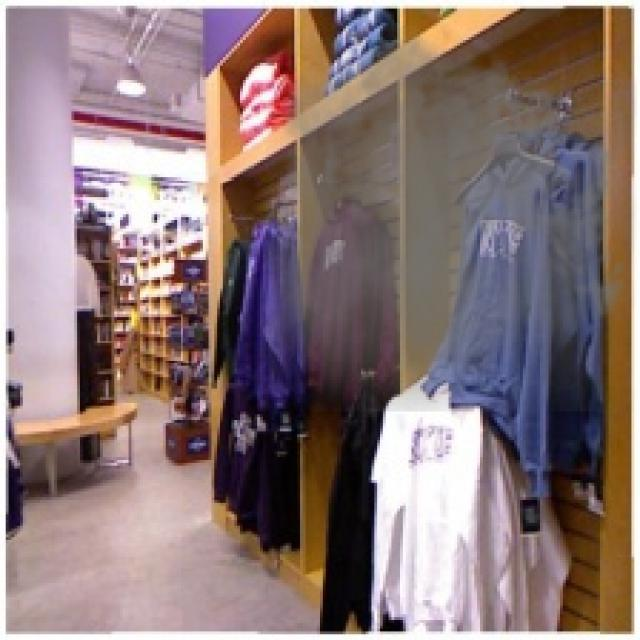Smoke: (260, 11, 637, 412)
